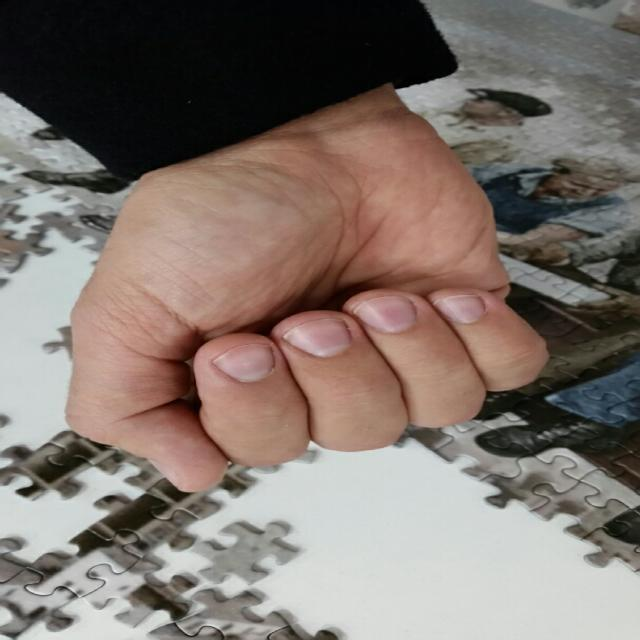Nail: (282, 319, 351, 358), (353, 296, 416, 332), (213, 344, 273, 381), (433, 295, 484, 322), (148, 459, 182, 489)
